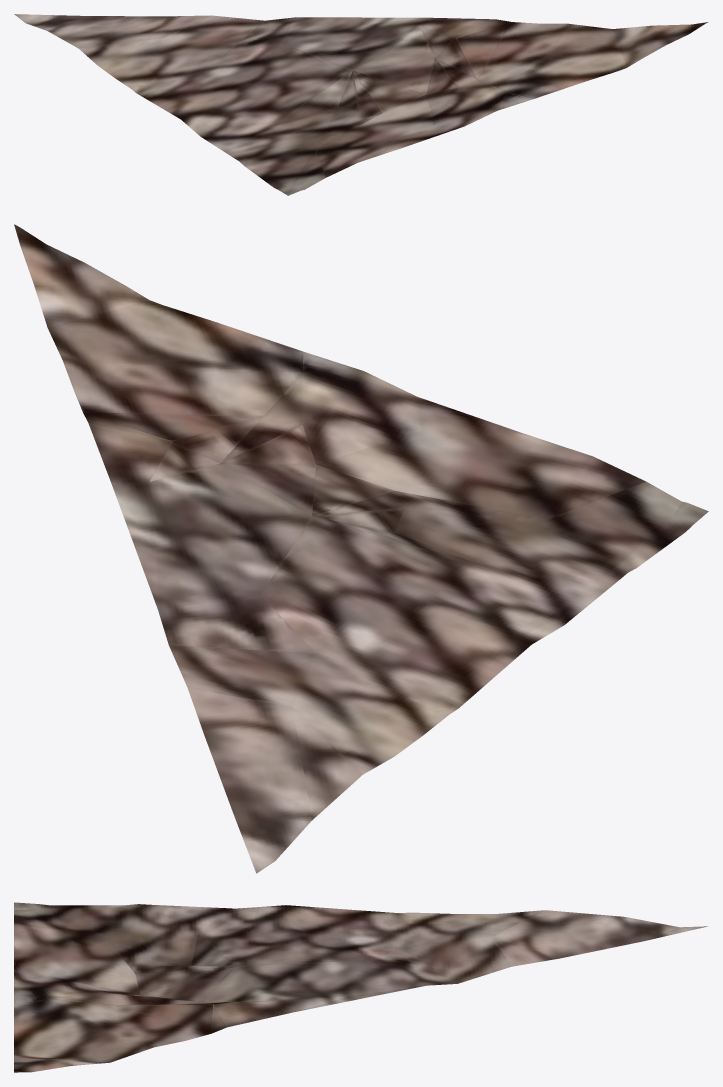
The picture shows the model from 3 angles, top to bottom: view 1: azimuth 30°, elevation 25°; view 2: azimuth 150°, elevation 25°; view 3: azimuth 270°, elevation 25°; orthographic projection. The views are drawn at different scales.
Bounding box in the file's own units: 1.9 × 0.3925 × 2.15.
Materials: 1 (1 with a texture image).
